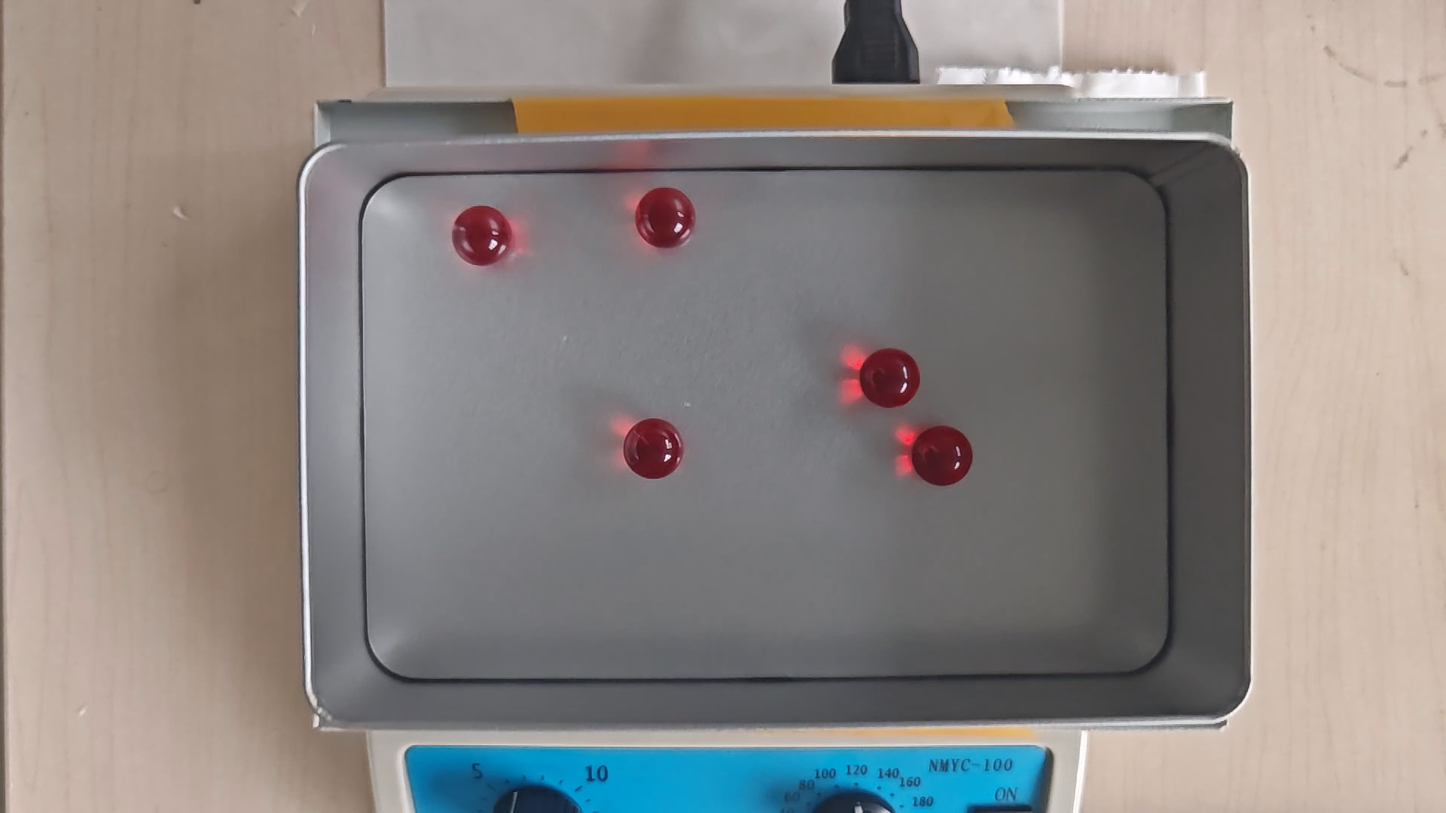ball: (452, 205, 513, 266), (861, 349, 920, 411), (635, 187, 695, 247), (914, 425, 972, 487), (626, 418, 682, 480)
container: (362, 169, 1169, 680)
